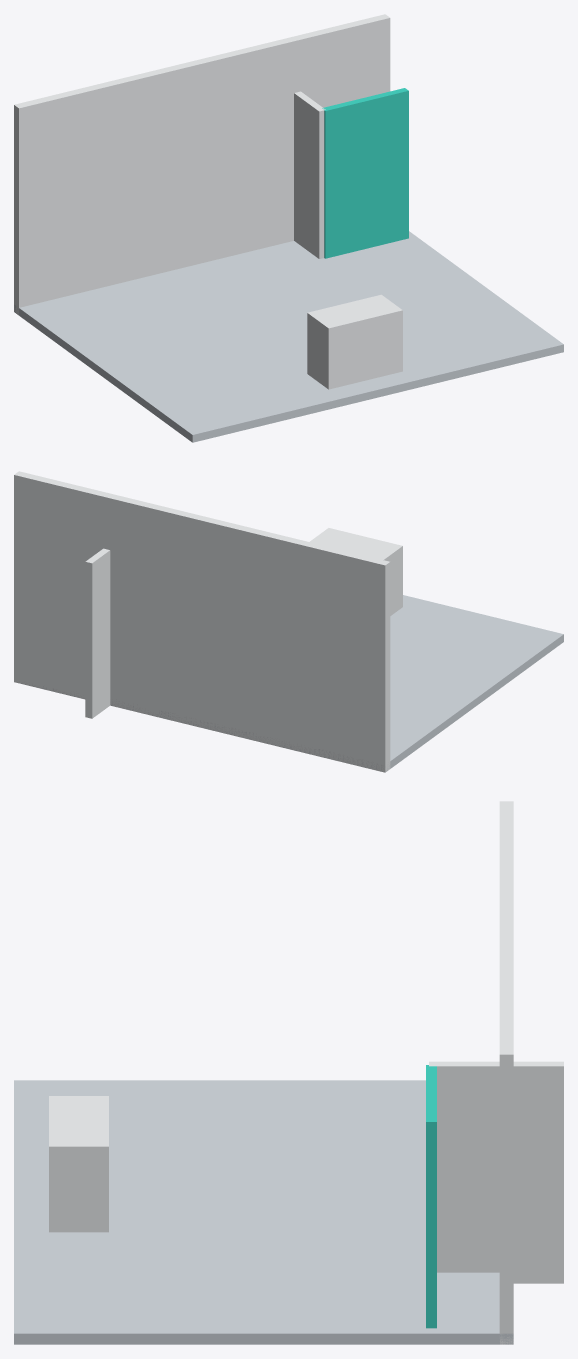
3 renders of one model, top to bottom at view 1: azimuth 30°, elevation 25°; view 2: azimuth 150°, elevation 25°; view 3: azimuth 270°, elevation 25°, orthographic. The views are drawn at different scales.
Visible parts, largest first — view 1: Exhibition Booth Concept; view 2: Exhibition Booth Concept; view 3: Exhibition Booth Concept.
Boxes of the visible parts, x1,y1,x2,y2 form: Exhibition Booth Concept: (14, 14, 563, 442); Exhibition Booth Concept: (14, 471, 563, 772); Exhibition Booth Concept: (14, 801, 563, 1344).
Size of the model in its own units: 6 by 3.2 by 5.51.
